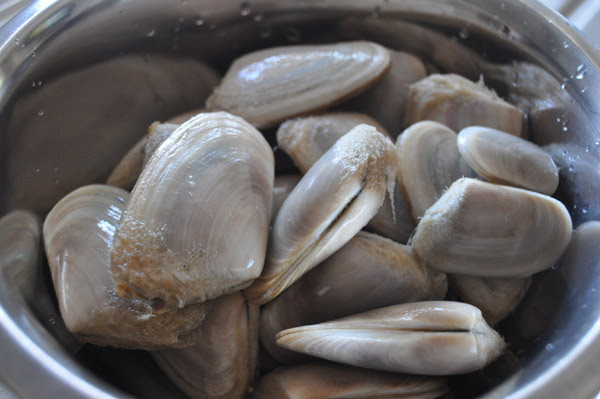tuatua: (106, 109, 274, 306), (37, 181, 203, 350), (253, 123, 395, 312), (274, 298, 509, 377), (408, 173, 577, 280), (203, 38, 391, 130), (157, 293, 259, 399), (403, 72, 528, 140), (455, 124, 563, 194), (396, 116, 469, 219)
